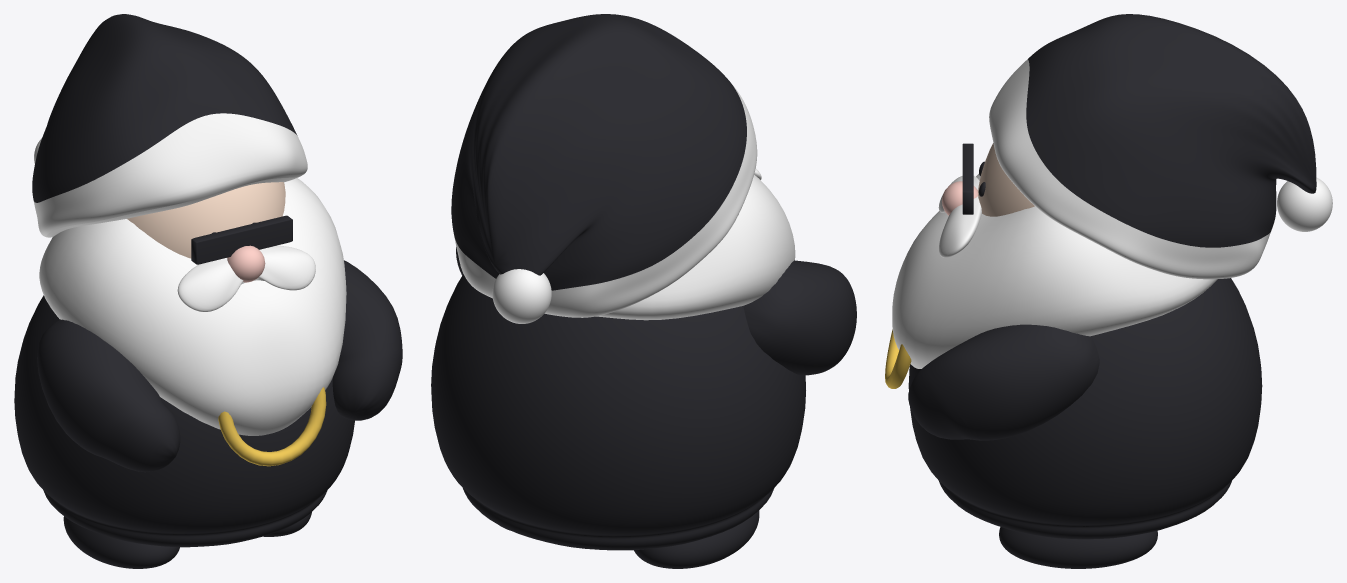
The model's file is vip.glb.
3 renders of one model, left to right at view 1: azimuth 30°, elevation 25°; view 2: azimuth 150°, elevation 25°; view 3: azimuth 270°, elevation 25°, orthographic. The views are drawn at different scales.
Visible parts, largest first — view 1: vip_red, vip_white, vip_black, vip_skin, vip_gold, vip_nose; view 2: vip_red, vip_white, vip_black; view 3: vip_red, vip_white, vip_black, vip_skin, vip_gold, vip_nose.
Part boxes in pixels (box(x1,y1,x2,y2)): vip_red: box(14, 14, 402, 547); vip_white: box(33, 113, 346, 435); vip_black: box(63, 215, 311, 568); vip_skin: box(127, 182, 285, 258); vip_gold: box(218, 387, 326, 466); vip_nose: box(227, 245, 265, 282); vip_red: box(431, 14, 856, 550); vip_white: box(454, 83, 795, 323); vip_black: box(499, 510, 759, 568); vip_red: box(908, 14, 1316, 539); vip_white: box(892, 59, 1332, 368); vip_black: box(962, 143, 1157, 568); vip_skin: box(978, 143, 1034, 216); vip_gold: box(885, 329, 911, 388); vip_nose: box(942, 181, 978, 215).
Bounding box in the file's own units: 2.14 × 2.96 × 2.41.
